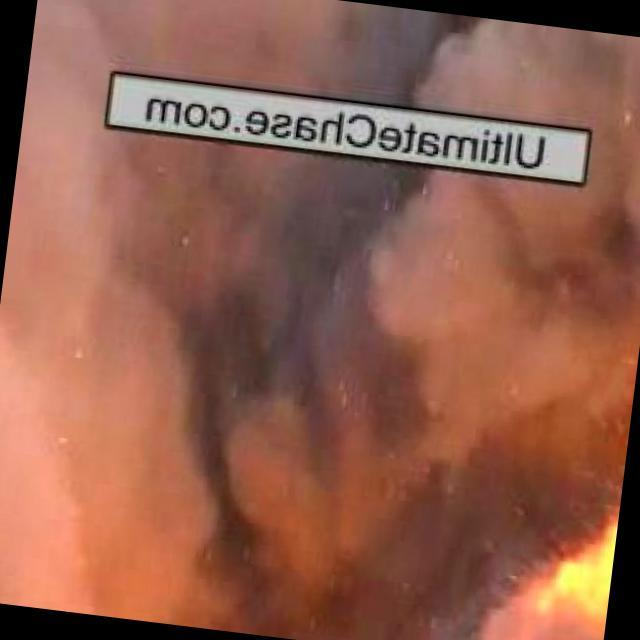Fire: (473, 455, 625, 640)
